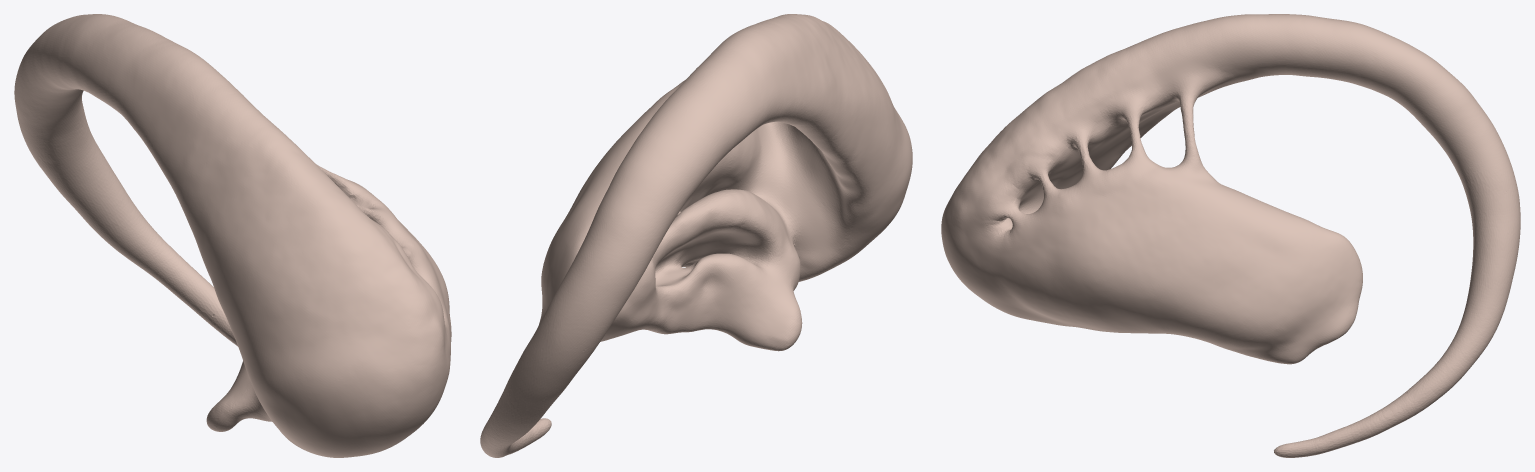
File: StriatumBasal-Left.glb
3 renders of one model, left to right at view 1: azimuth 30°, elevation 25°; view 2: azimuth 150°, elevation 25°; view 3: azimuth 270°, elevation 25°, orthographic. The views are drawn at different scales.
Visible parts, largest first — view 1: left; view 2: left; view 3: left.
Boxes of the visible parts, x1,y1,x2,y2 form: left: (14,14,451,457); left: (480,14,912,457); left: (941,14,1520,457).
Bounding box in the file's own units: 23 × 39.52 × 56.72.
